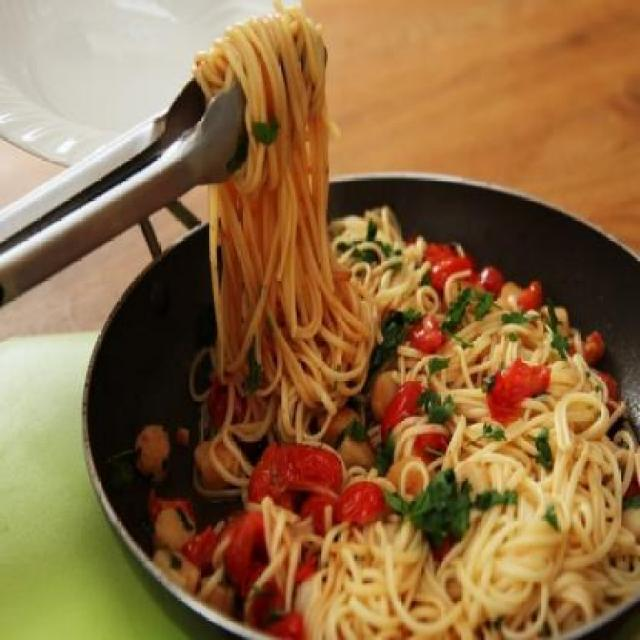Oil pasta: (170, 29, 608, 606)
